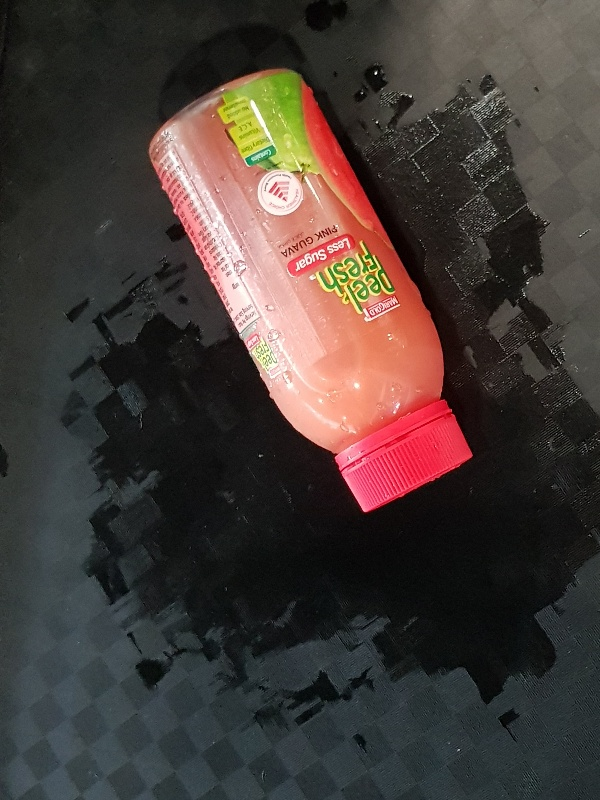Marigold Peel Fresh Pink Guava Juice Drink: (149, 67, 473, 513)
